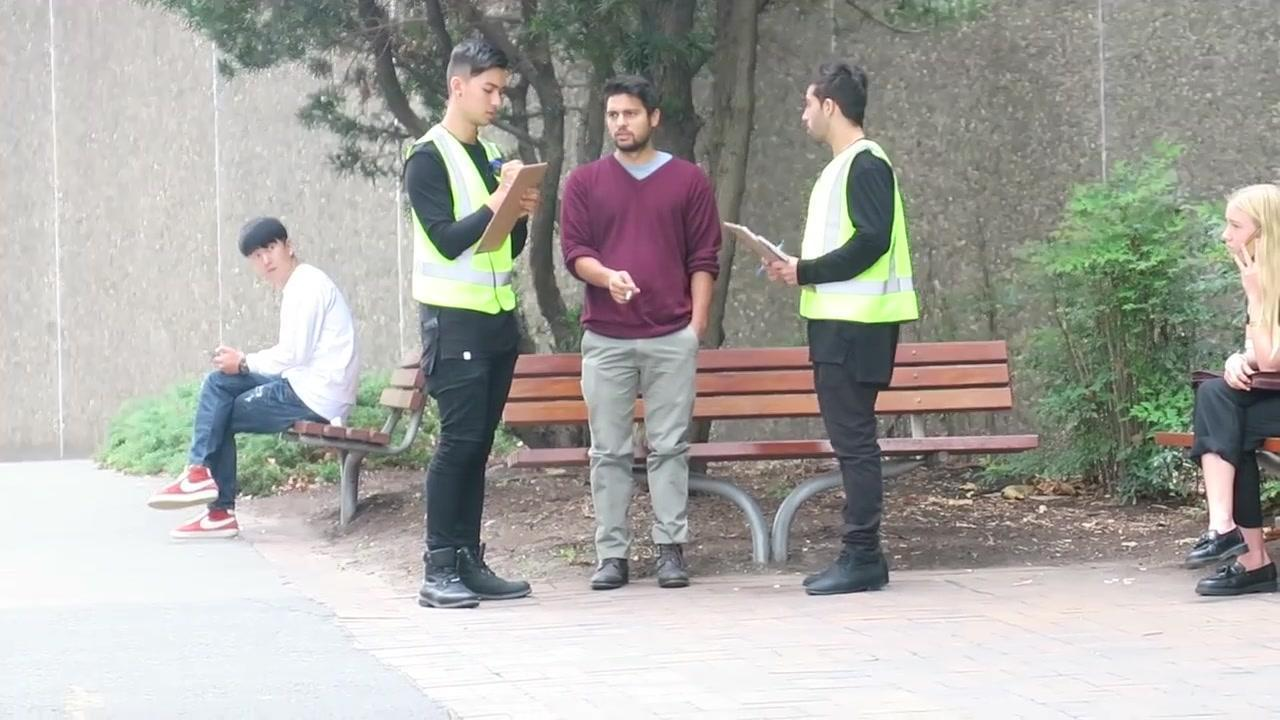vest: (798, 134, 921, 324), (404, 123, 518, 316)
